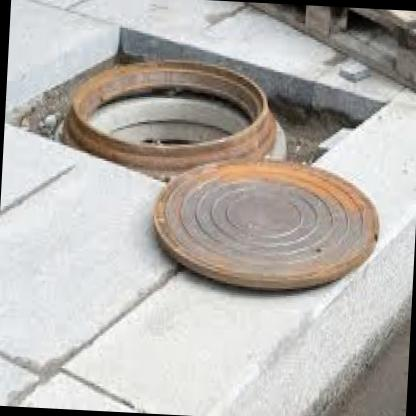manholes: (53, 25, 394, 312)
